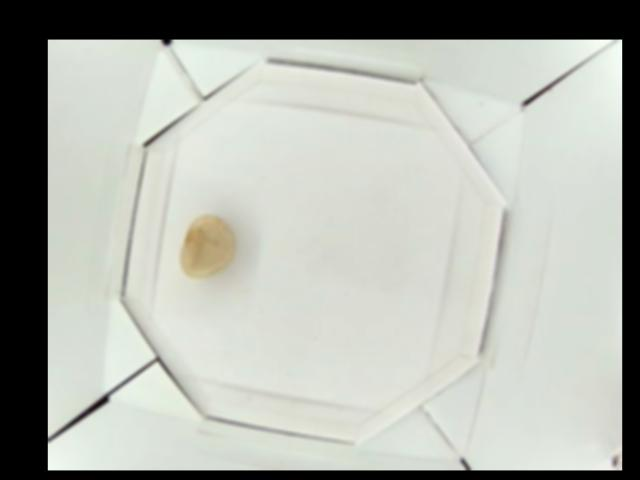Pebble: (178, 212, 236, 278)
